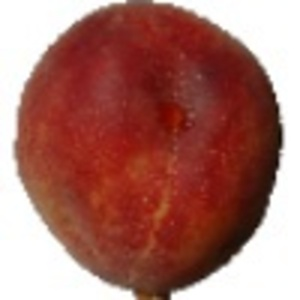pêssego: (12, 1, 285, 300)
